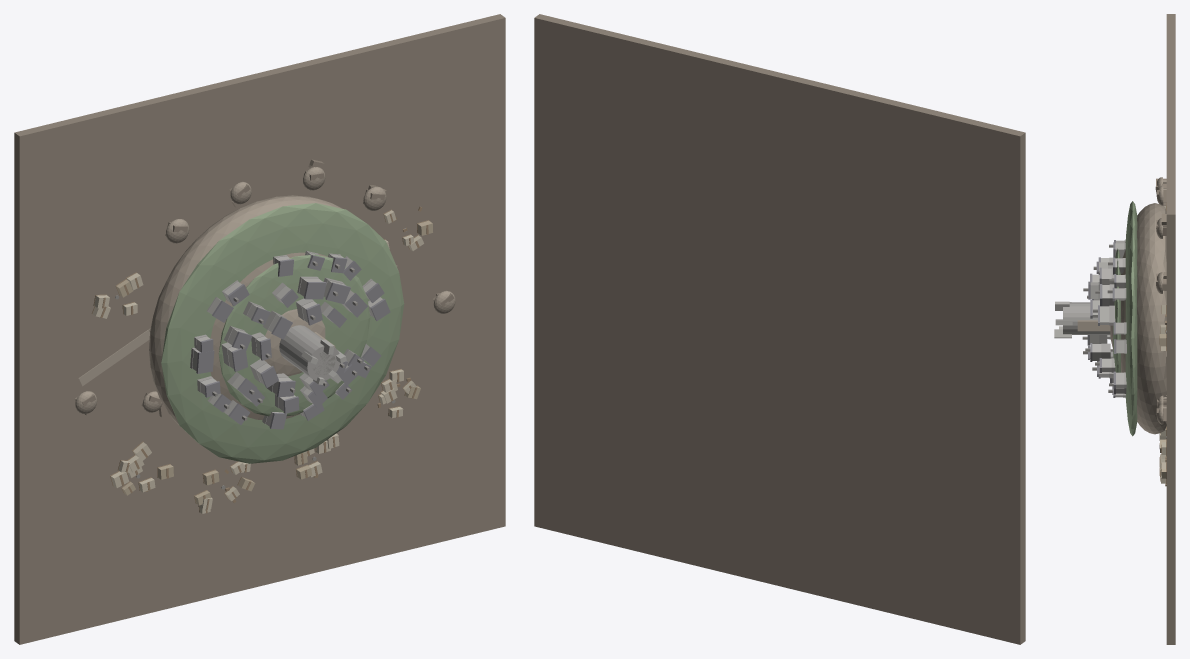
Rendered from Ruined_Hill_Settlement_v1.glb.
The picture shows the model from 3 angles, left to right: view 1: azimuth 30°, elevation 25°; view 2: azimuth 150°, elevation 25°; view 3: azimuth 270°, elevation 25°; orthographic projection. The views are drawn at different scales.
Parts seen in each view (by area): view 1: Ground_Base, Grass_Layer_1, Grass_Layer_2, Hill_Main, Tower_Outer, Hill_Crown, Path_0; view 2: Ground_Base; view 3: Ground_Base, Hill_Main, Grass_Layer_1, Tower_Outer, Grass_Layer_2, Tower_Breach_Fill.
Boxes of the visible parts, x1,y1,x2,y2 form: Ground_Base: (14,14,505,644); Grass_Layer_1: (161,203,404,463); Grass_Layer_2: (218,254,370,416); Hill_Main: (149,195,341,431); Tower_Outer: (279,325,340,380); Hill_Crown: (264,309,325,376); Path_0: (78,329,149,386); Ground_Base: (534,14,1025,644); Ground_Base: (1166,14,1175,644); Hill_Main: (1122,203,1166,434); Grass_Layer_1: (1125,201,1137,436); Tower_Outer: (1063,302,1110,334); Grass_Layer_2: (1113,248,1120,372); Tower_Breach_Fill: (1077,320,1110,331).
Bounding box in the file's own units: 320 × 320 × 81.84.
